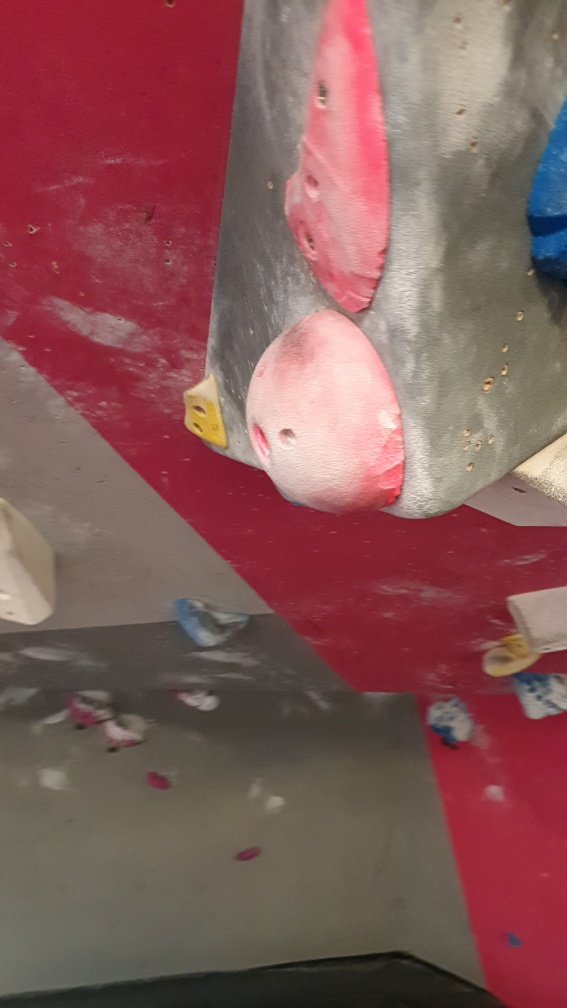Crimp: (179, 367, 236, 455)
Jug: (246, 305, 410, 518), (169, 597, 252, 650)
Pinch: (1, 490, 65, 634)
